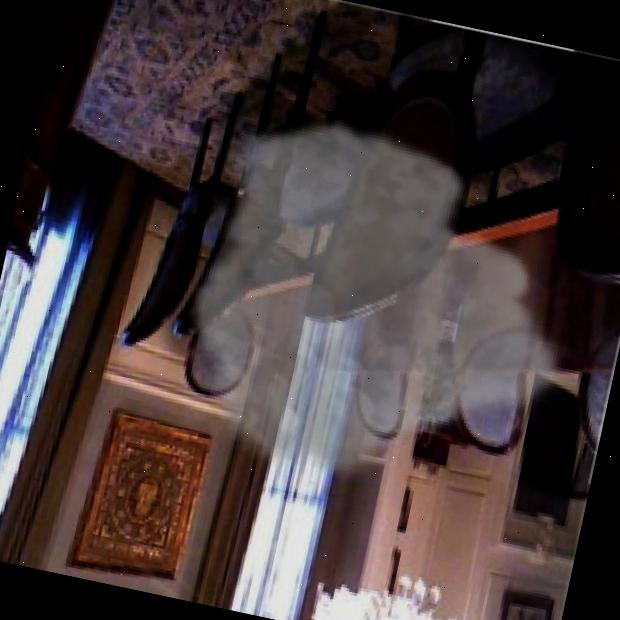smoke: (153, 90, 613, 532)
